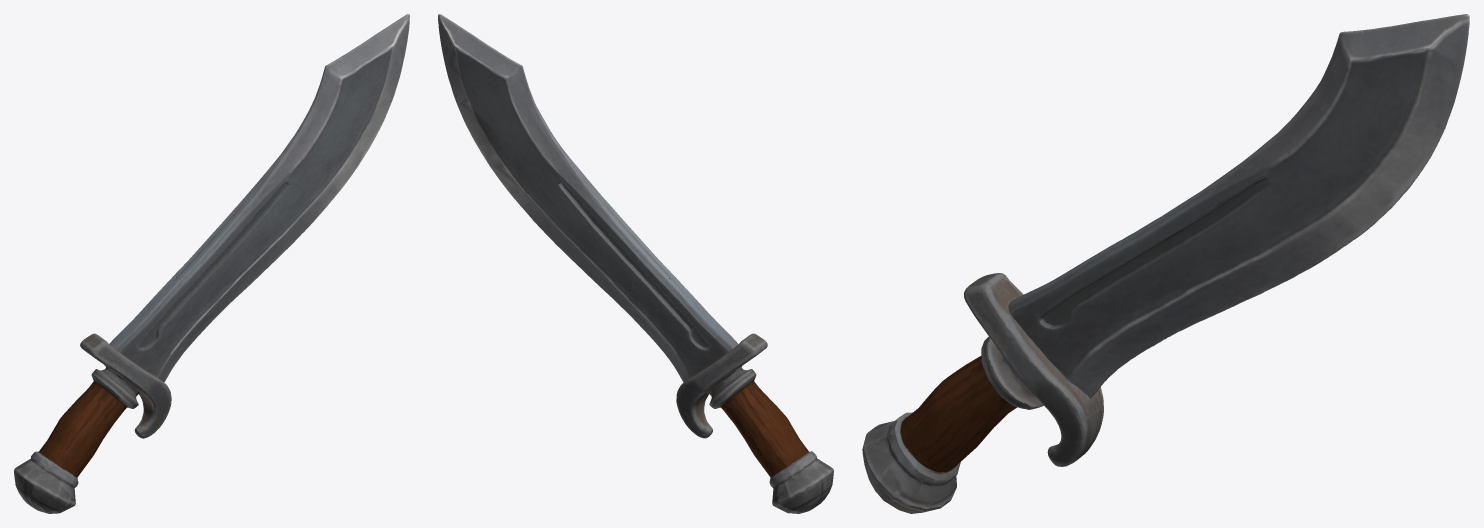
File: falchion_low.glb
3 renders of one model, left to right at view 1: azimuth 30°, elevation 25°; view 2: azimuth 150°, elevation 25°; view 3: azimuth 330°, elevation 25°, orthographic. The views are drawn at different scales.
Visible parts, largest first — view 1: world; view 2: world; view 3: world.
Part boxes in pixels (box(x1,y1,x2,y2)): world: box(14, 14, 409, 513); world: box(438, 14, 833, 513); world: box(862, 14, 1469, 513).
Bounding box in the file's own units: 0.9986 × 1 × 0.1526.
1 material, 1 textured.
